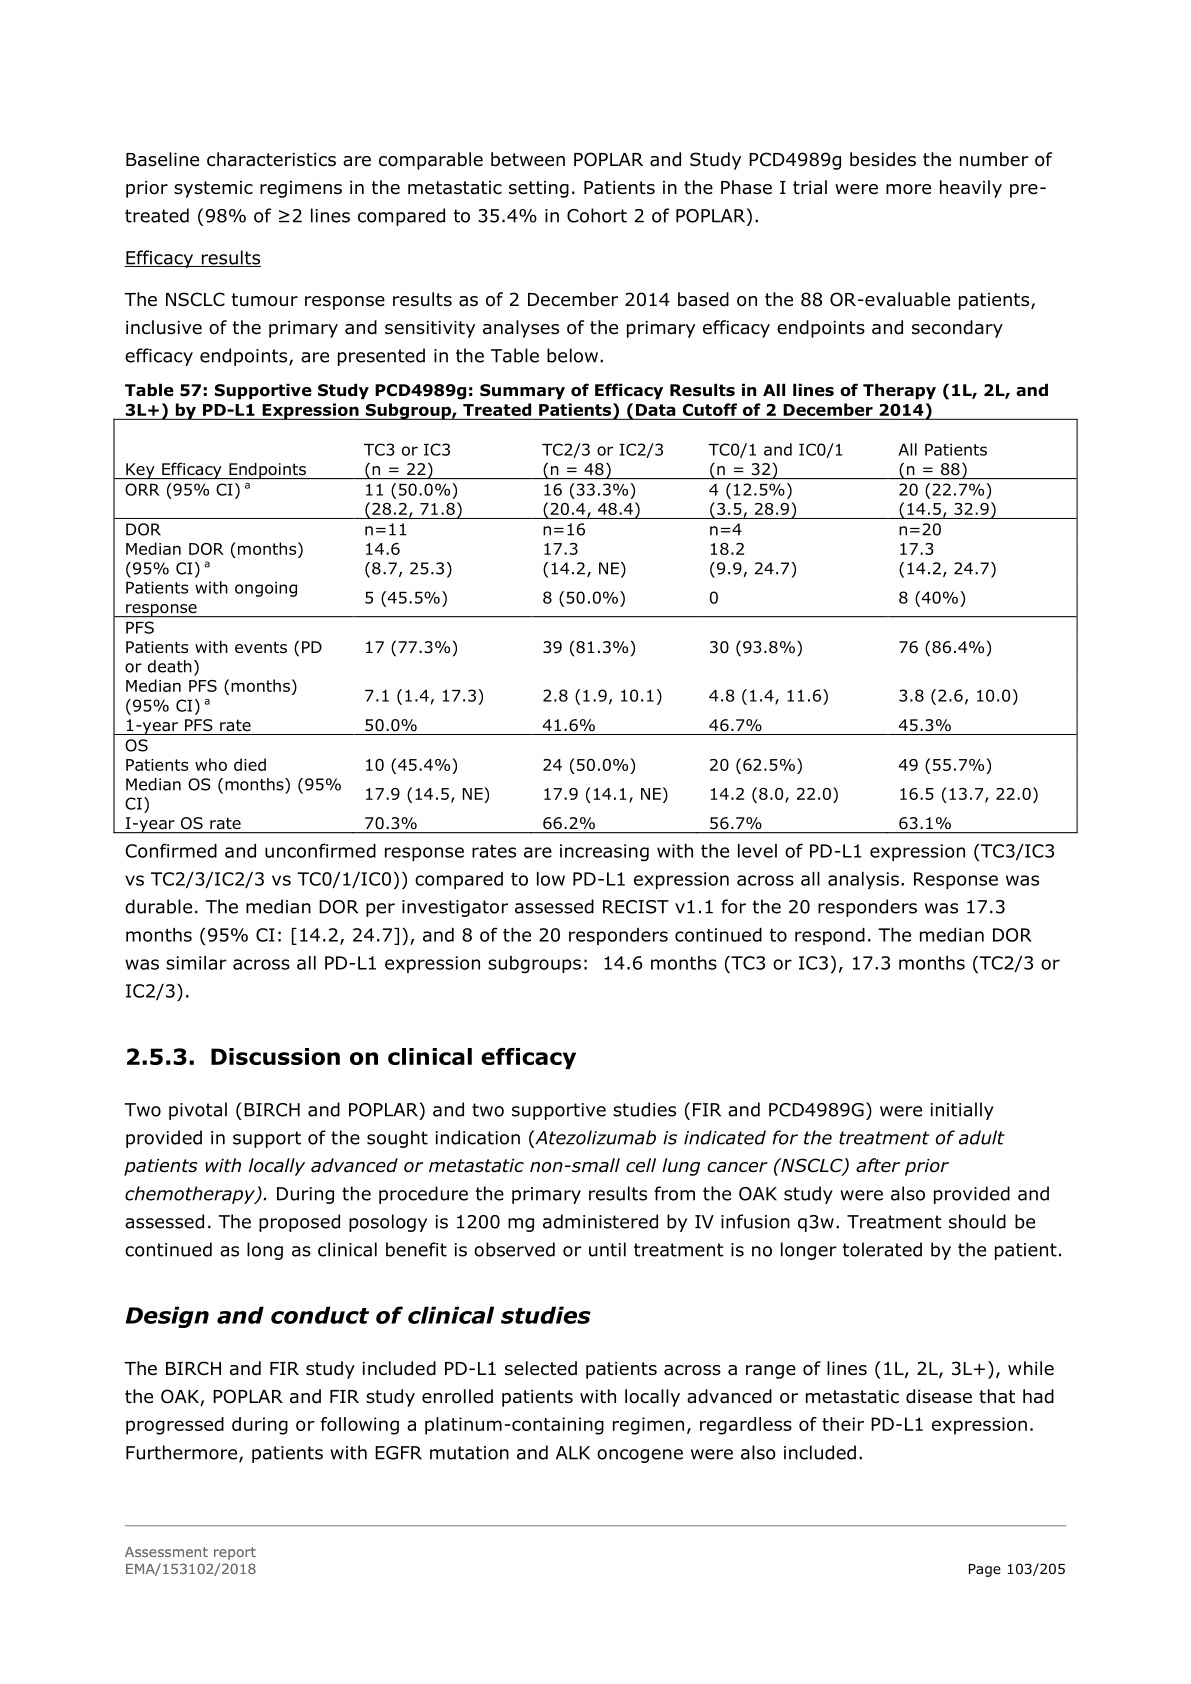partial_lined: (112, 417, 1079, 834)
